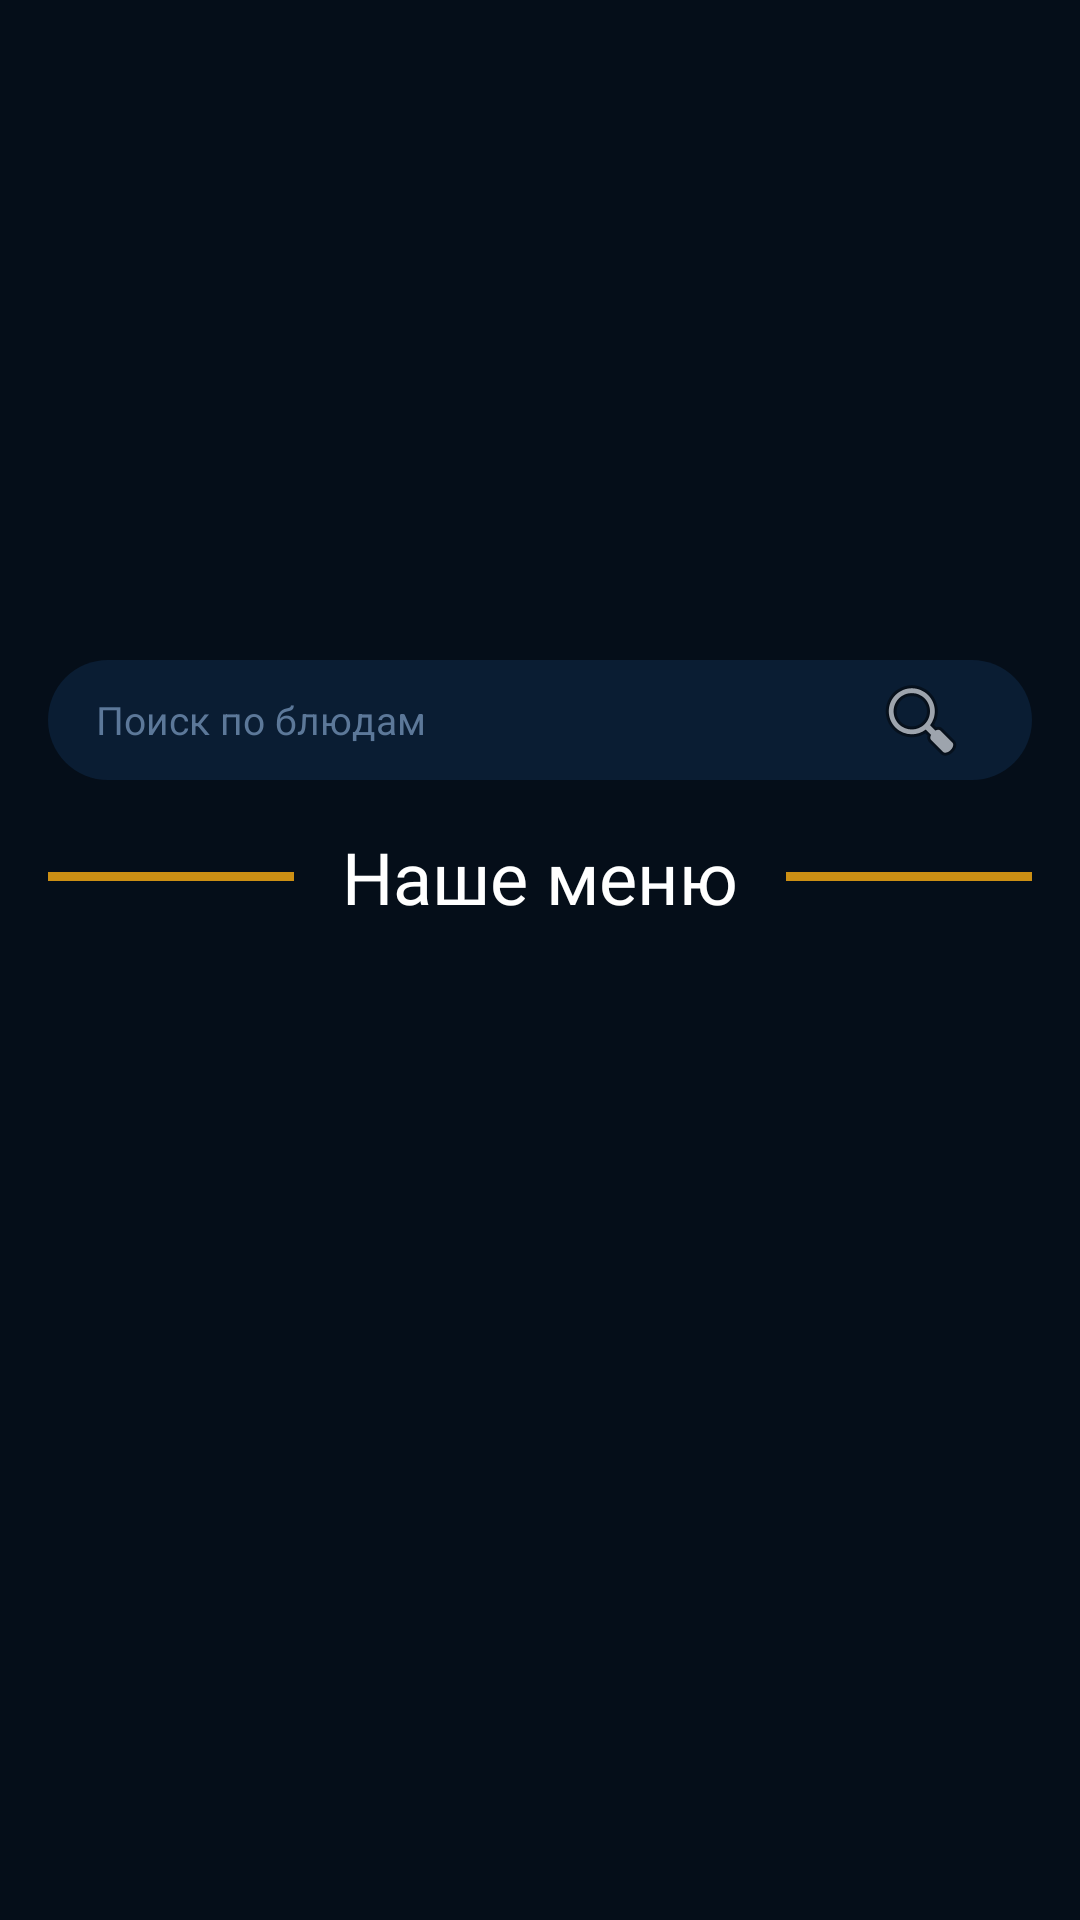

Icon click points for this 1080 x 1920 phone screenshot, format (x,y):
search: (921,720)
